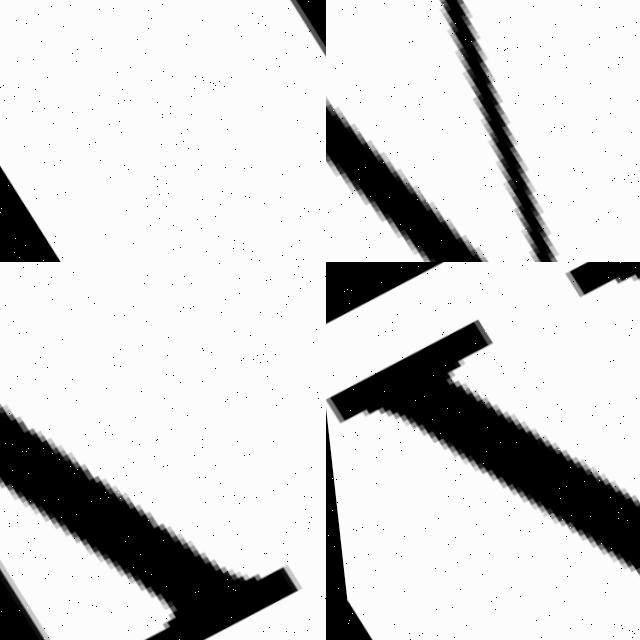1: (0, 0, 326, 262)
K: (0, 262, 303, 640)
V: (326, 0, 640, 262)
Y: (326, 262, 640, 640)
